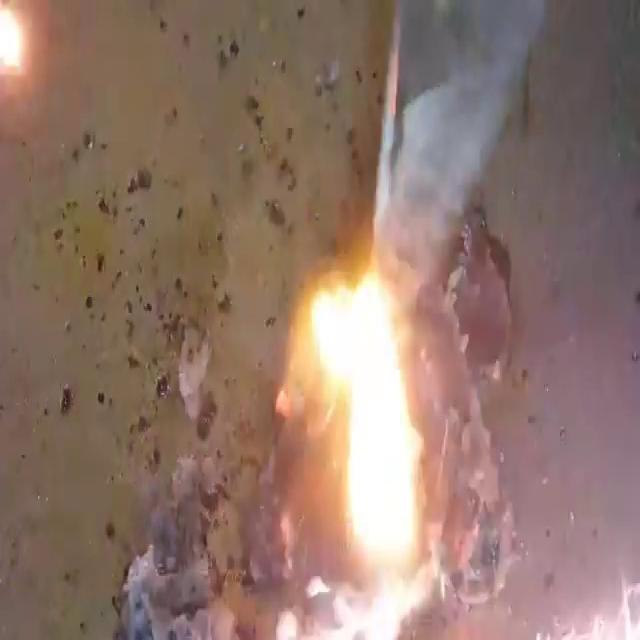Fire: (3, 4, 635, 636), (304, 263, 427, 574)
